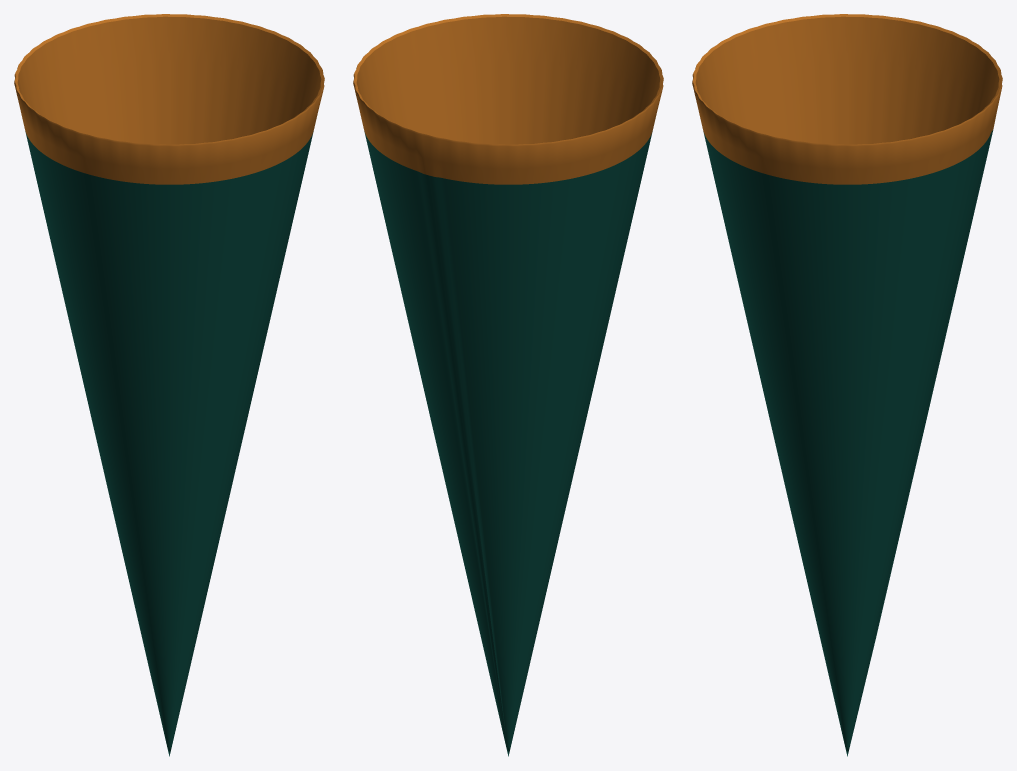
3 renders of one model, left to right at view 1: azimuth 30°, elevation 25°; view 2: azimuth 150°, elevation 25°; view 3: azimuth 270°, elevation 25°, orthographic.
Parts seen in each view (by area): view 1: part_001_Carton_shell, part_000_Closure_cuff; view 2: part_001_Carton_shell, part_000_Closure_cuff; view 3: part_001_Carton_shell, part_000_Closure_cuff.
Part boxes in pixels (x1=…): part_001_Carton_shell: x1=25, y1=131, x2=313, y2=756; part_000_Closure_cuff: x1=14, y1=14, x2=324, y2=184; part_001_Carton_shell: x1=364, y1=131, x2=652, y2=756; part_000_Closure_cuff: x1=353, y1=14, x2=663, y2=184; part_001_Carton_shell: x1=703, y1=130, x2=993, y2=756; part_000_Closure_cuff: x1=692, y1=14, x2=1002, y2=184.
Size of the model in its own units: 0.064 by 0.154 by 0.064.
